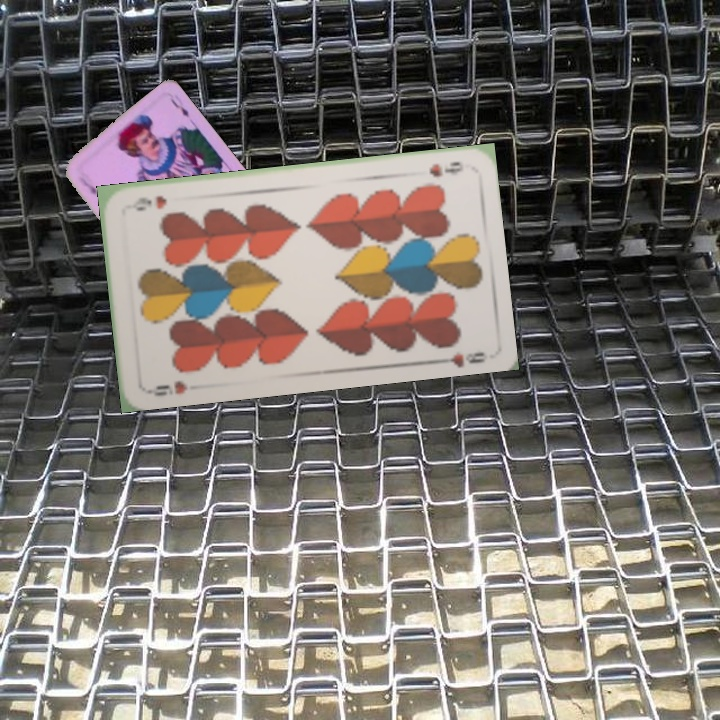EU: (74, 172, 100, 197)
H9: (144, 376, 190, 399), (425, 157, 466, 180)
